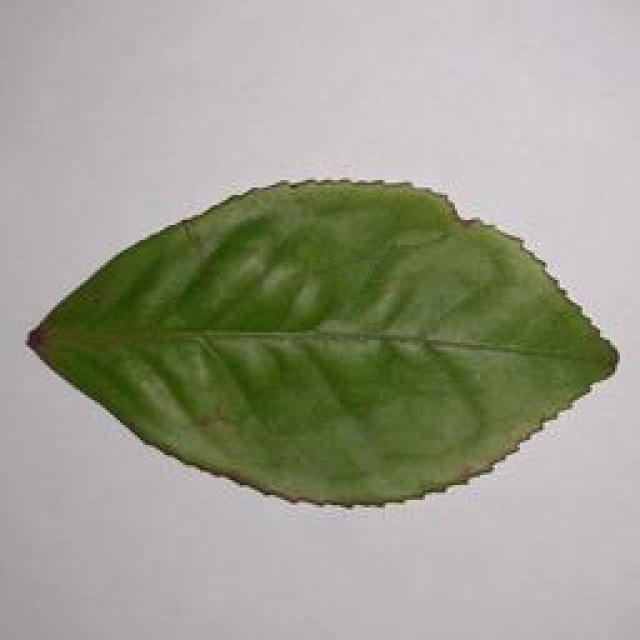Red Leaf Spot: (22, 174, 640, 515)
